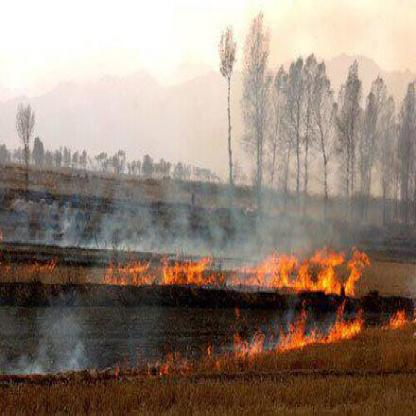fire: (220, 238, 366, 304), (103, 241, 214, 289), (276, 298, 364, 354), (231, 325, 266, 362), (384, 302, 408, 331), (152, 352, 170, 380)
smoke: (254, 188, 292, 238)
